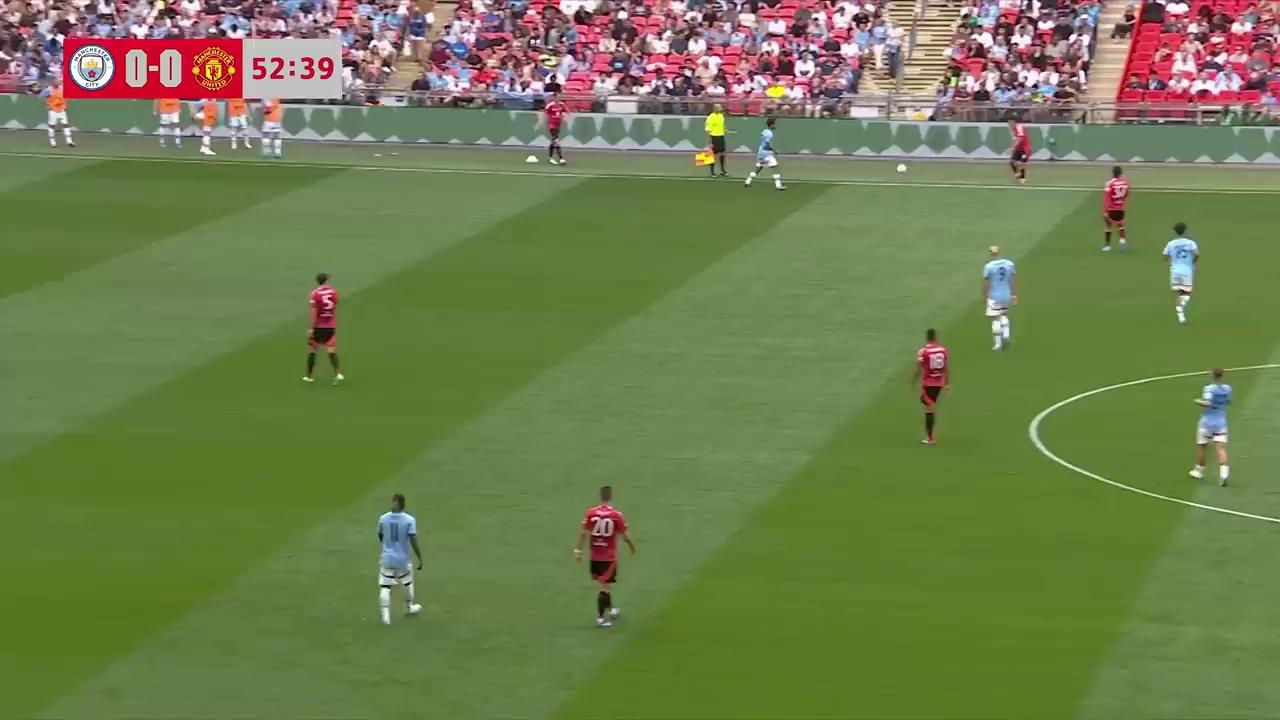ball: (897, 164, 910, 174)
player: (574, 485, 636, 629), (377, 493, 423, 624), (302, 272, 345, 385), (1191, 367, 1232, 483), (913, 327, 949, 445), (979, 243, 1014, 352), (1162, 222, 1199, 324), (743, 125, 785, 190), (1101, 169, 1130, 253), (1008, 126, 1031, 185)
referee: (696, 106, 732, 179)
